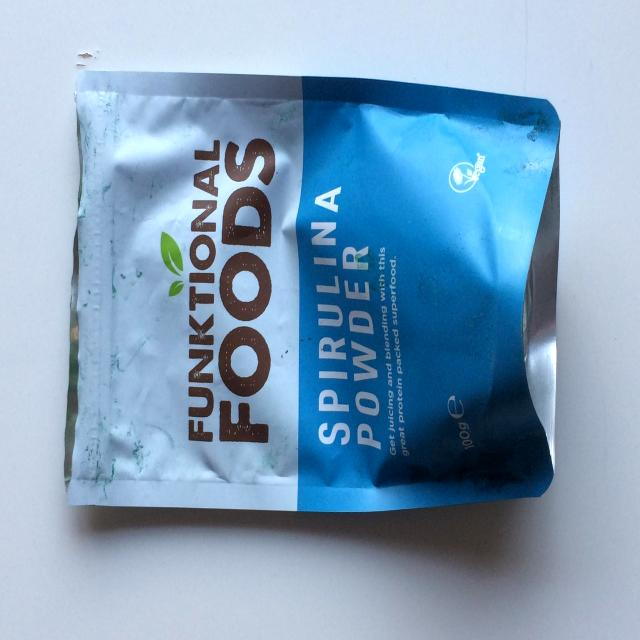Plastic: (64, 64, 568, 520)
